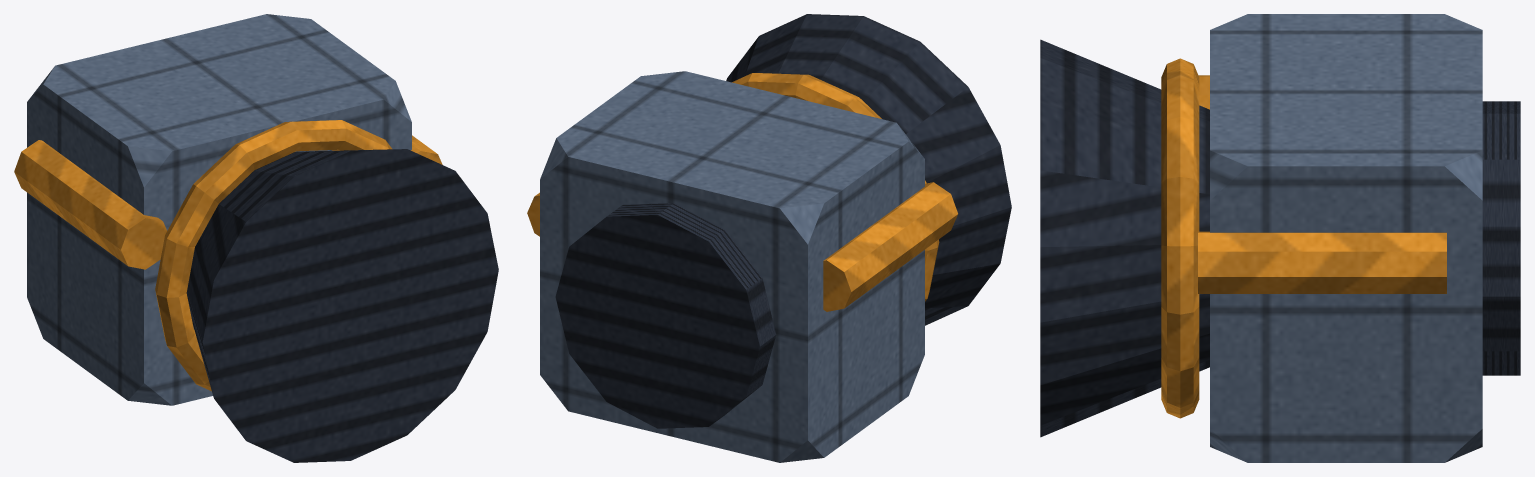
Rendered from mod_engine_basic.glb.
3 views of the same model, side by side, from view 1: azimuth 30°, elevation 25°; view 2: azimuth 150°, elevation 25°; view 3: azimuth 270°, elevation 25° (orthographic). The views are drawn at different scales.
Parts seen in each view (by area): view 1: mod_engine_basic; view 2: mod_engine_basic; view 3: mod_engine_basic.
Part boxes in pixels (<box>): mod_engine_basic: <box>14,14,498,462</box>; mod_engine_basic: <box>527,14,1011,462</box>; mod_engine_basic: <box>1040,14,1520,462</box>.
Bounding box in the file's own units: 1.84 × 1.68 × 2.02.
1 material, 1 textured.
